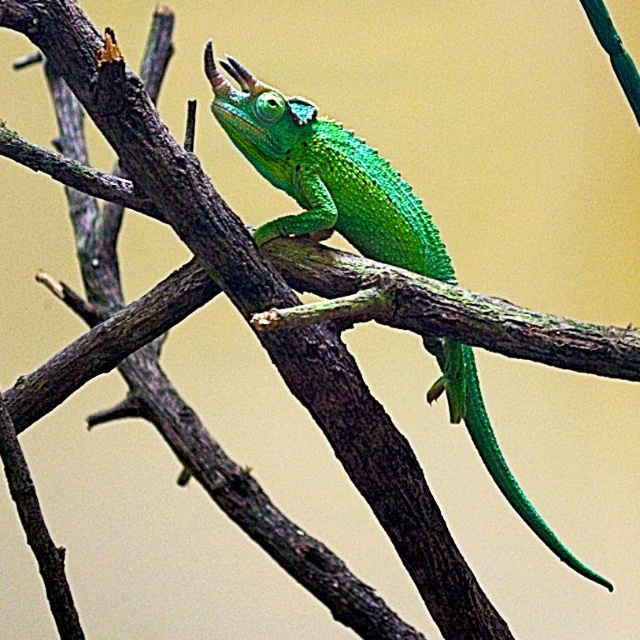Lizard: (206, 41, 611, 591)
